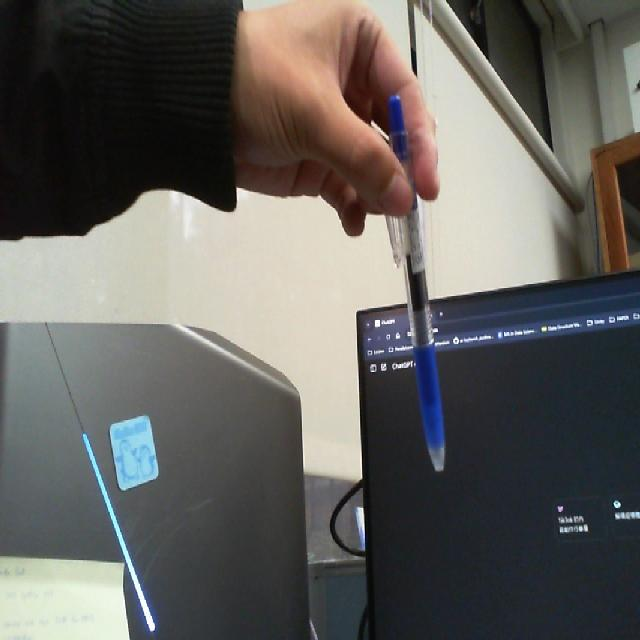Pen: (376, 82, 458, 496)
